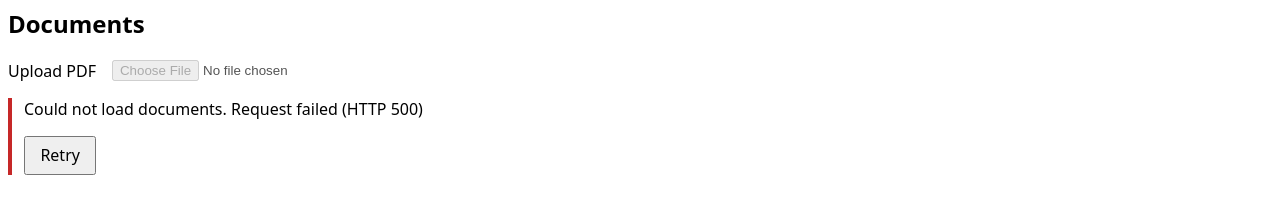
Scenario: Documents › shows an error with a working Retry when the list cannot be loaded
This screenshot has width=1280, height=222.
Expected: the message shows "Could not load documents", [24,98,231,120]
Click the button "Retry" at (60, 155), box [24,136,96,175]
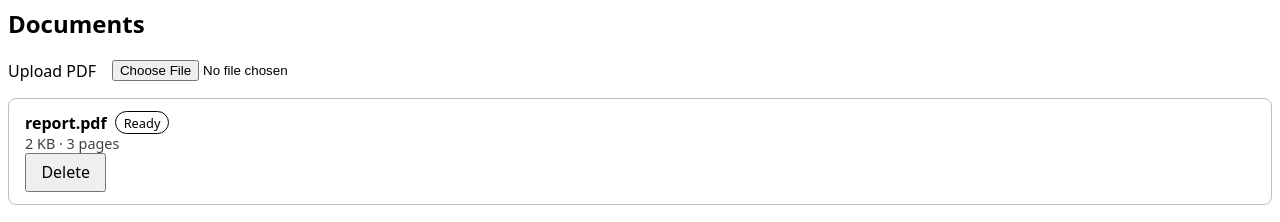
Result: the text "report.pdf" is shown at [25,112,107,134]
